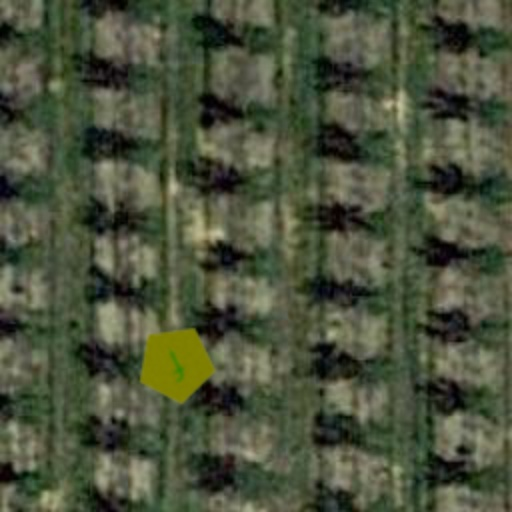pentagon: (120, 308, 232, 420)
